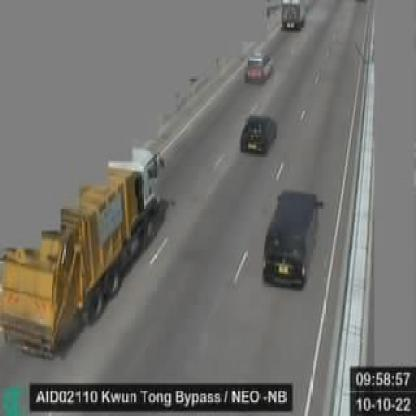Car: (263, 192, 323, 290), (240, 115, 276, 156), (245, 52, 273, 85)
Truck: (0, 144, 165, 360), (280, 1, 307, 30)
